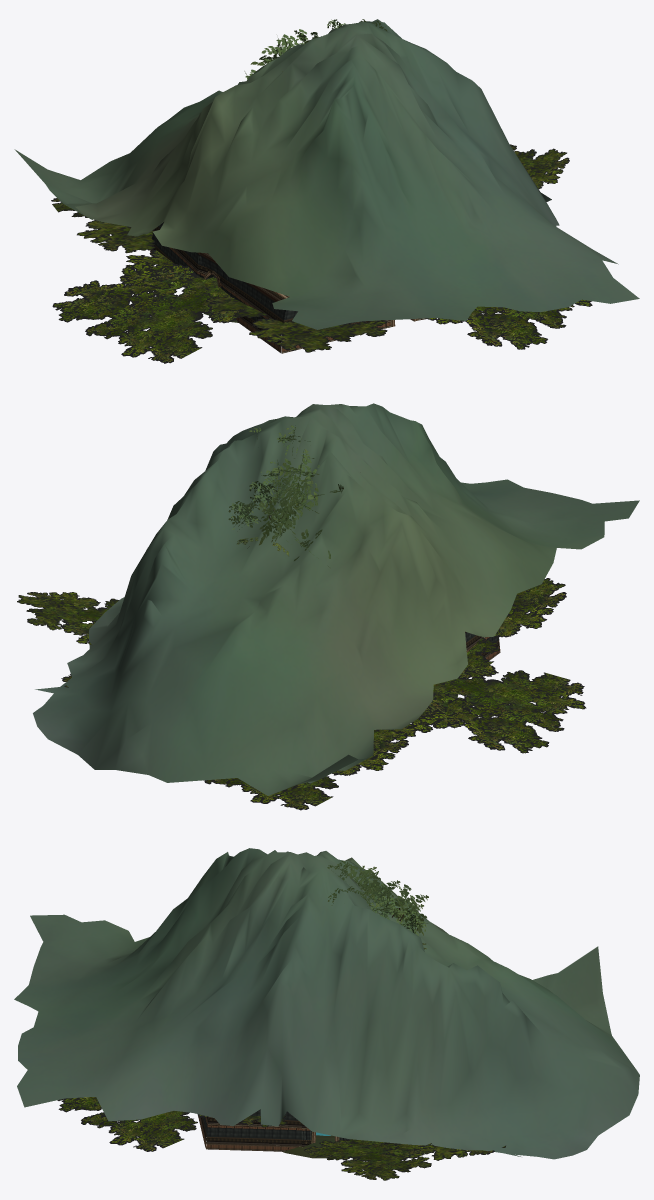
The model's file is world-scenery-detail.glb.
3 views of the same model, one above another, from view 1: azimuth 30°, elevation 25°; view 2: azimuth 150°, elevation 25°; view 3: azimuth 270°, elevation 25° (orthographic). The views are drawn at different scales.
Parts seen in each view (by area): view 1: mountain, reeds, fence, tree-tall; view 2: mountain, reeds, tree-tall; view 3: mountain, reeds, fence, tree-tall.
Boxes of the visible parts, box(x1,y1,x2,y2) form: mountain: box(14, 19, 639, 329); reeds: box(51, 144, 592, 363); fence: box(150, 222, 426, 353); tree-tall: box(244, 19, 387, 79); mountain: box(33, 403, 639, 795); reeds: box(17, 578, 586, 810); tree-tall: box(228, 425, 343, 567); mountain: box(14, 848, 639, 1159); reeds: box(57, 1097, 505, 1180); fence: box(198, 1109, 388, 1151); tree-tall: box(327, 860, 428, 935).
Bounding box in the file's own units: 6.21 × 2.75 × 6.44.
Materials: 38 (32 with a texture image).
